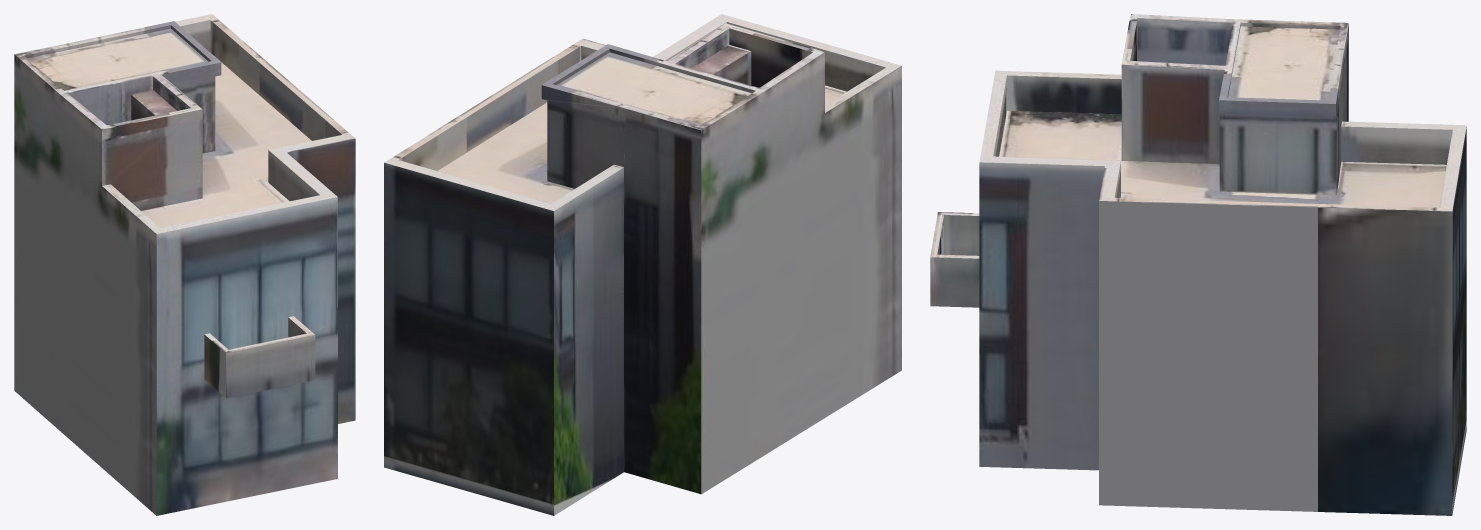
3 renders of one model, left to right at view 1: azimuth 30°, elevation 25°; view 2: azimuth 150°, elevation 25°; view 3: azimuth 270°, elevation 25°, orthographic. The views are drawn at different scales.
Parts seen in each view (by area): view 1: B283514038601062A0; view 2: B283514038601062A0; view 3: B283514038601062A0.
Boxes of the visible parts, bbox=[...] form: B283514038601062A0: bbox=[14, 14, 355, 515]; B283514038601062A0: bbox=[384, 14, 901, 515]; B283514038601062A0: bbox=[930, 14, 1466, 515].
Bounding box in the file's own units: 9.35 × 11.32 × 15.05.
Materials: 1 (1 with a texture image).
